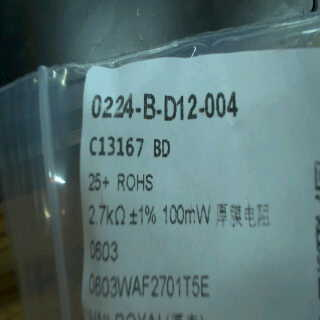2.7kR: (84, 199, 130, 233)
